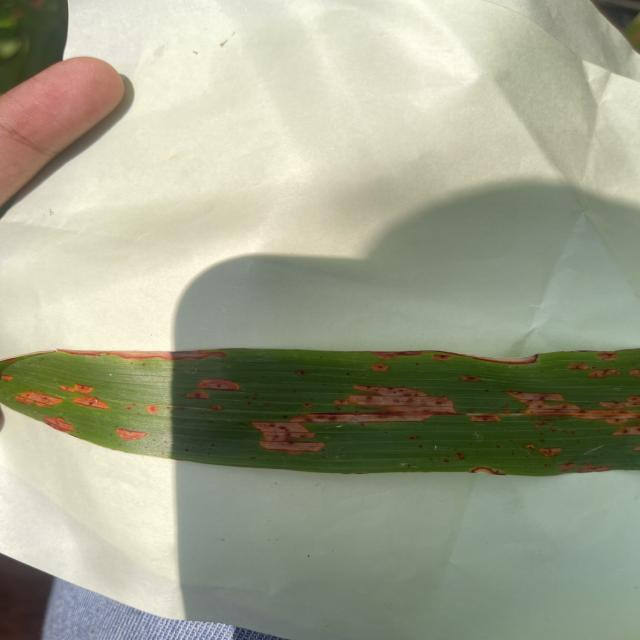millet_rust: (0, 343, 640, 485)
